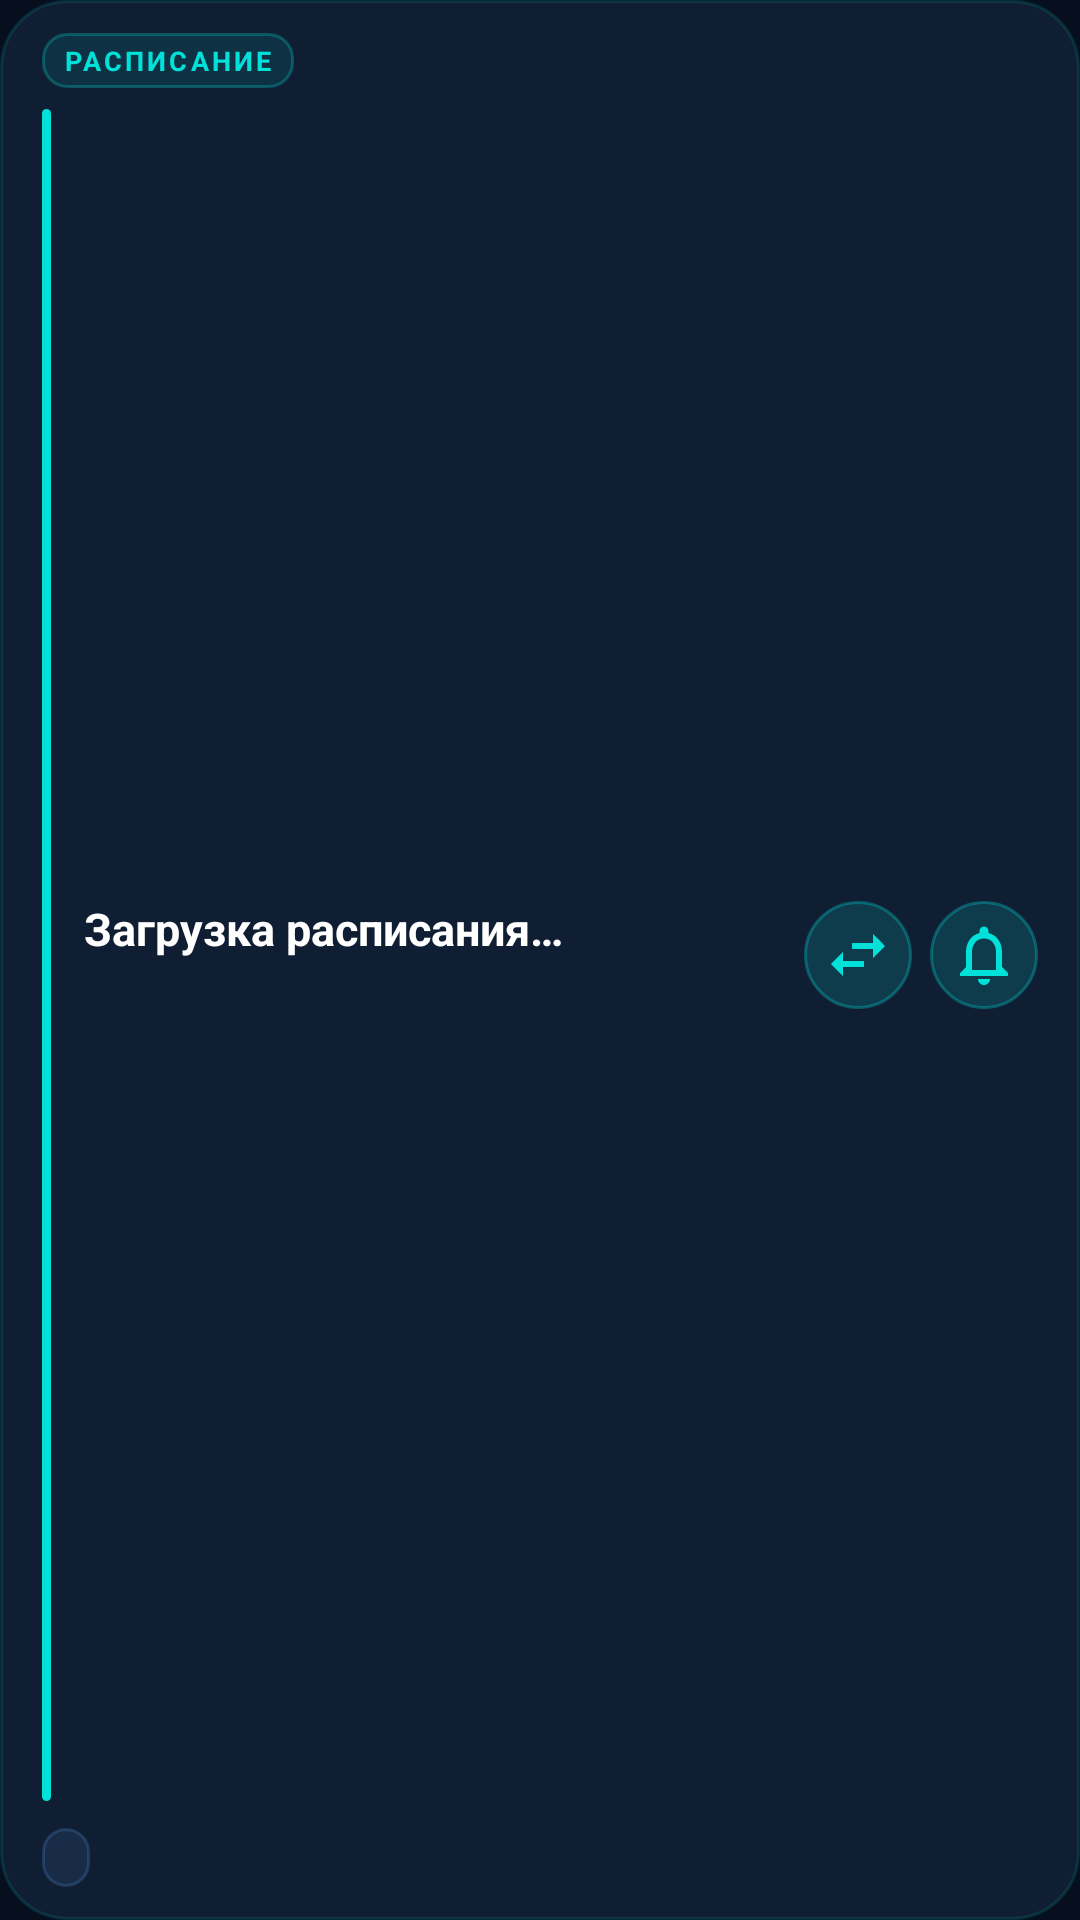

Icons on this 1080px x 1920px Android screen, each with the point to tap as (x=x, y=y):
Настройка уведомлений: (x=984, y=955)
Переключить режим пары: (x=858, y=955)
